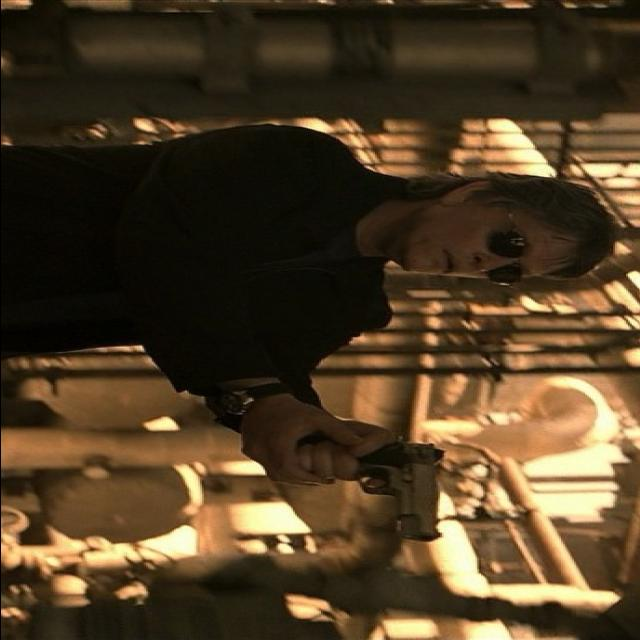weapons: (284, 414, 466, 553)
